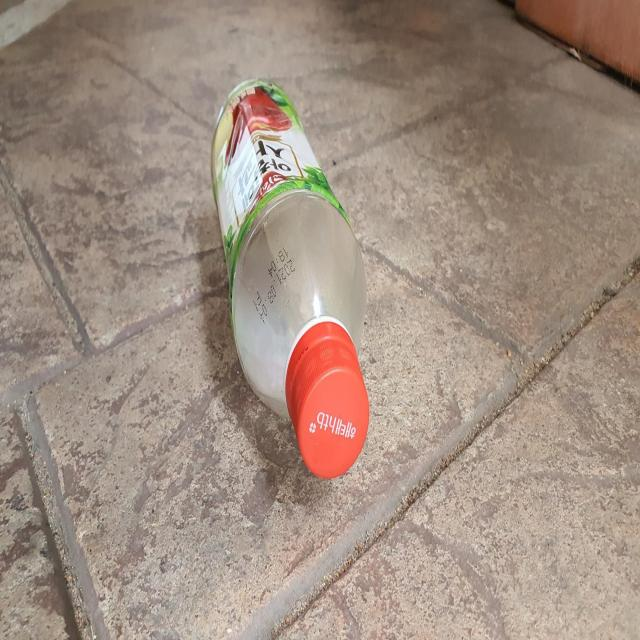plastic: (211, 79, 369, 479)
